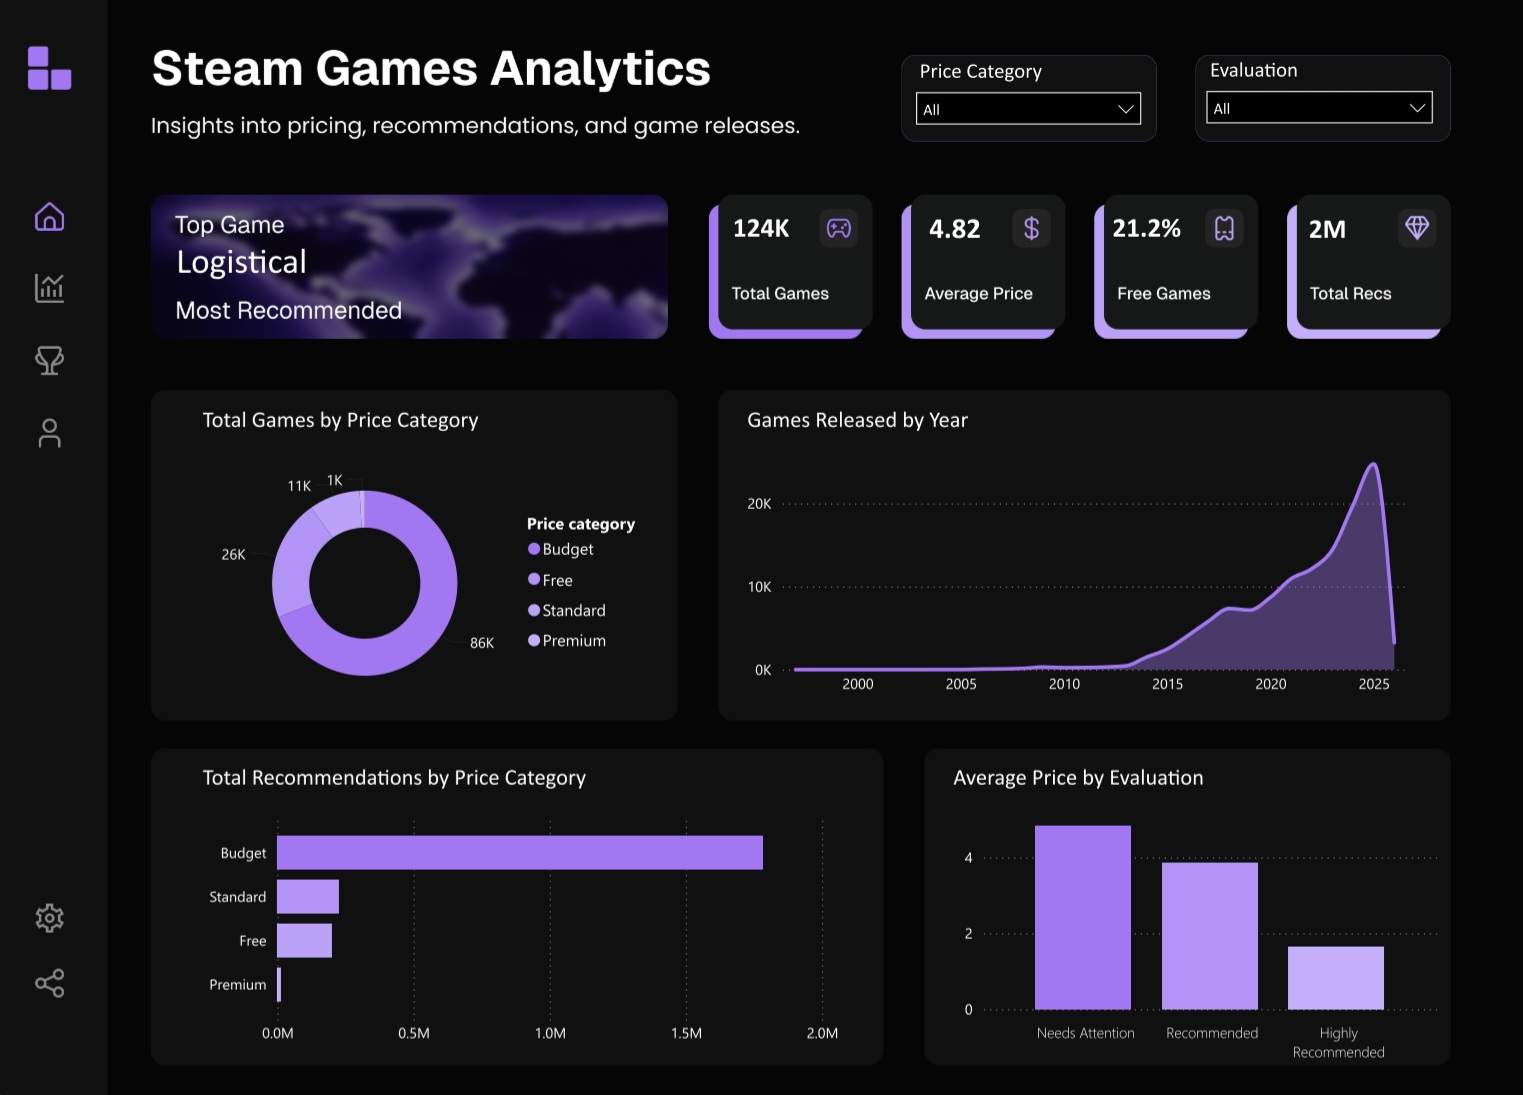

This screenshot's page, from the dashboard's own definition file:
{"tool":"powerbi","page":{"name":"Game Dashboard","canvas":[1280,920],"ordinal":0},"visuals":[{"type":"cardVisual","fields":{"Data":["Cleaned Data.Free Games"]},"box":[901.4,145.7,153.3,90],"z":0},{"type":"donutChart","title":"Total Games by Price Category","fields":{"Category":["Cleaned Data.Price category"],"Y":["Cleaned Data.Total Games"]},"box":[170,340,385,263.3],"z":1000},{"type":"clusteredColumnChart","fields":{"Category":["Cleaned Data.Evaluation"],"Y":["Cleaned Data.Average Price"]},"box":[793.3,636.7,413.3,256.7],"z":2000},{"type":"clusteredBarChart","title":"Total Recommendations by Price Category","fields":{"Category":["Cleaned Data.Price category"],"Y":["Cleaned Data.Total Recommendations"]},"box":[170,636.7,538.3,243.3],"z":3000},{"type":"lineChart","title":"Games Released by Year","fields":{"Category":["Cleaned Data.Release date.Variation.Date Hierarchy.Year"],"Y":["Count(Cleaned Data.AppID)"]},"box":[621.7,340,560,250],"z":4000},{"type":"cardVisual","fields":{"Data":["Cleaned Data.Top Recommended Game"]},"box":[124.3,160,382.9,118.6],"z":5000},{"type":"slicer","fields":{"Values":["Cleaned Data.Evaluation"]},"box":[998.3,45,207.8,73.4],"z":6000},{"type":"cardVisual","fields":{"Data":["Cleaned Data.Total Games"]},"box":[585.7,145.7,153.3,90],"z":7000},{"type":"cardVisual","fields":{"Data":["Cleaned Data.Average Price"]},"box":[748.6,145.7,153.3,90],"z":8000},{"type":"cardVisual","fields":{"Data":["Cleaned Data.Total Recommendations"]},"box":[1064.3,147.1,153.3,90],"z":9000},{"type":"slicer","fields":{"Values":["Cleaned Data.Price category"]},"box":[756.7,45.6,207.8,73.4],"z":10000}]}

Visuals, with their boxes on the page's 1280x920 design canvas (x1, y1, x2, y2). These are canvas units, not pixel positions in the 1523x1095 screenshot, which may show the page scaled, cropped or inside an application window:
cardVisual - Cleaned Data.Free Games: box=[901, 146, 1055, 236]
"Total Games by Price Category" donutChart: box=[170, 340, 555, 603]
clusteredColumnChart - Cleaned Data.Evaluation x Cleaned Data.Average Price: box=[793, 637, 1207, 893]
"Total Recommendations by Price Category" clusteredBarChart: box=[170, 637, 708, 880]
"Games Released by Year" lineChart: box=[622, 340, 1182, 590]
cardVisual - Cleaned Data.Top Recommended Game: box=[124, 160, 507, 279]
slicer - Cleaned Data.Evaluation: box=[998, 45, 1206, 118]
cardVisual - Cleaned Data.Total Games: box=[586, 146, 739, 236]
cardVisual - Cleaned Data.Average Price: box=[749, 146, 902, 236]
cardVisual - Cleaned Data.Total Recommendations: box=[1064, 147, 1218, 237]
slicer - Cleaned Data.Price category: box=[757, 46, 964, 119]
